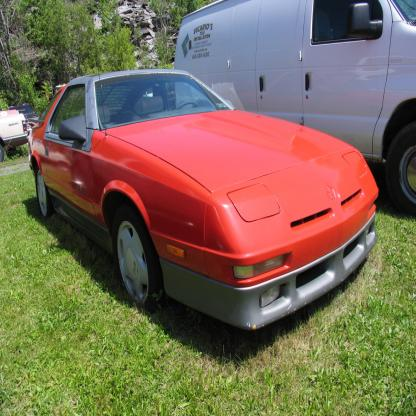Car: (28, 12, 380, 335)
